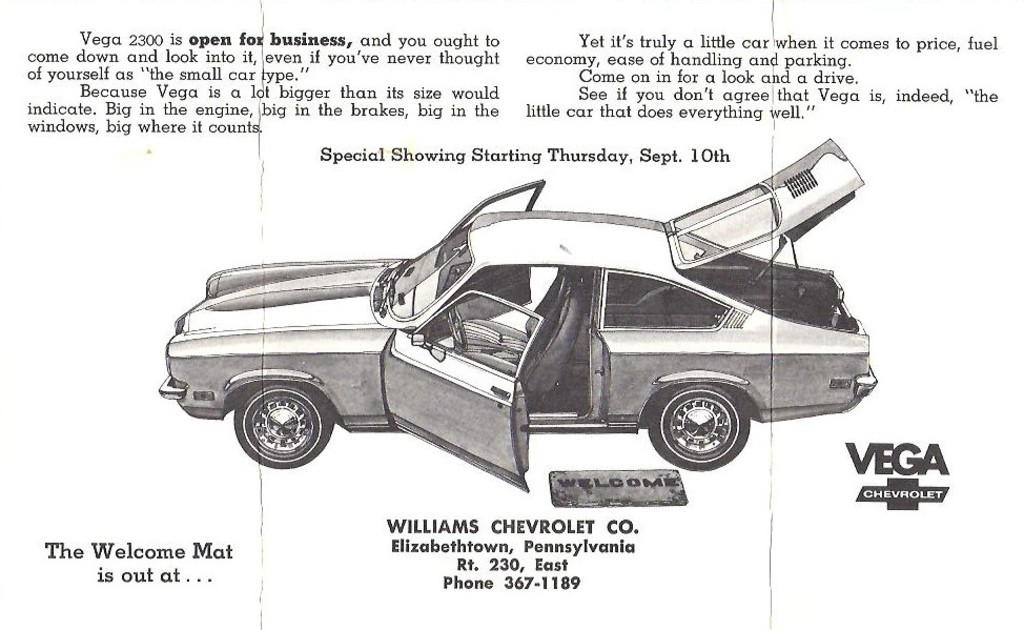Car: (159, 134, 879, 493)
